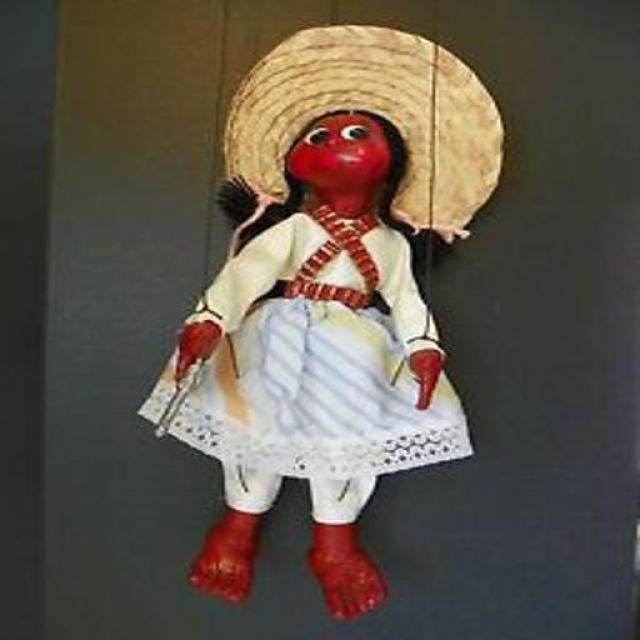pistol: (148, 345, 213, 439)
